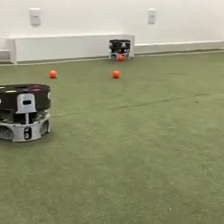ball: (48, 67, 57, 78), (111, 68, 120, 78), (117, 53, 124, 61)
goal: (8, 32, 137, 66)
robot: (1, 81, 54, 144), (107, 38, 132, 63)
